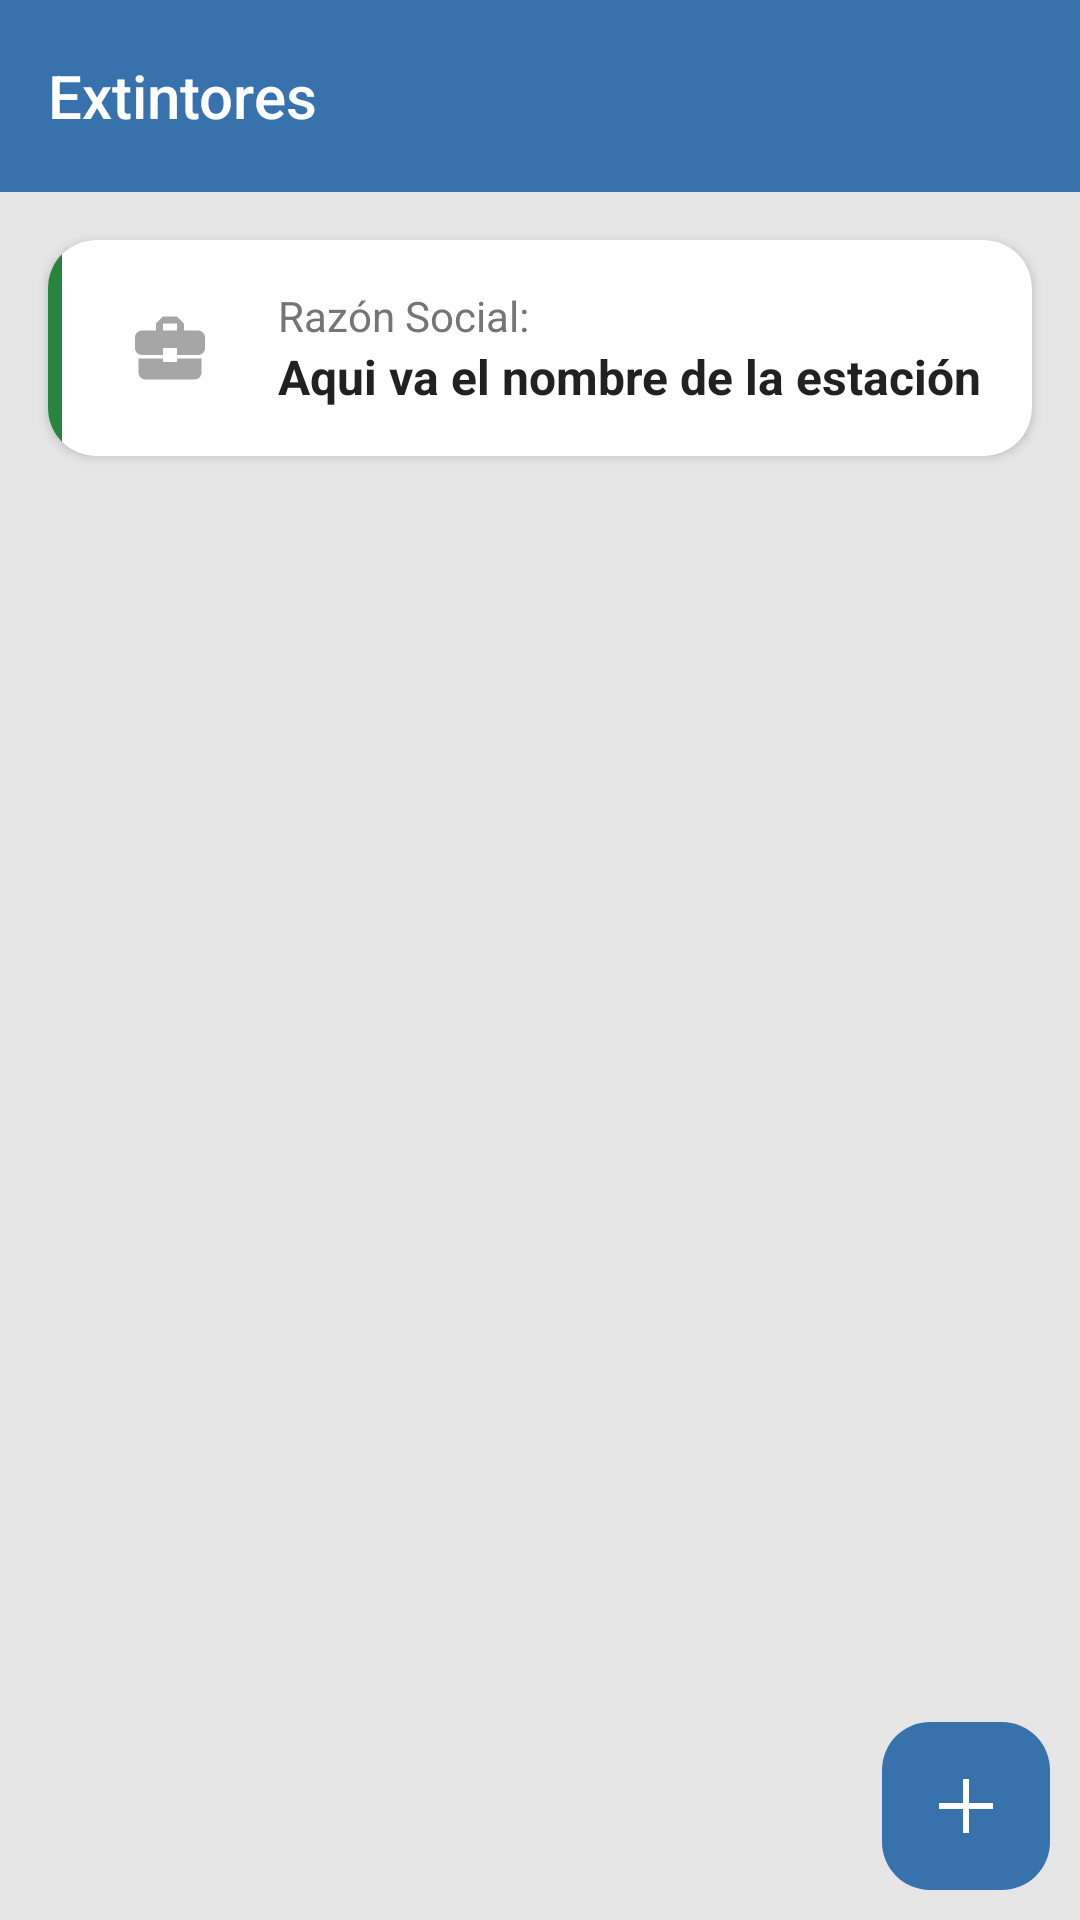

Point at icon controls on the screen. Image size 1080 x 1920, points as point (x, y).
business: point (170, 348)
